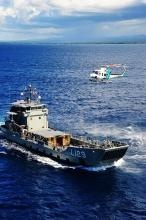Cargoship: (2, 84, 130, 170)
airplane: (86, 60, 129, 82)
